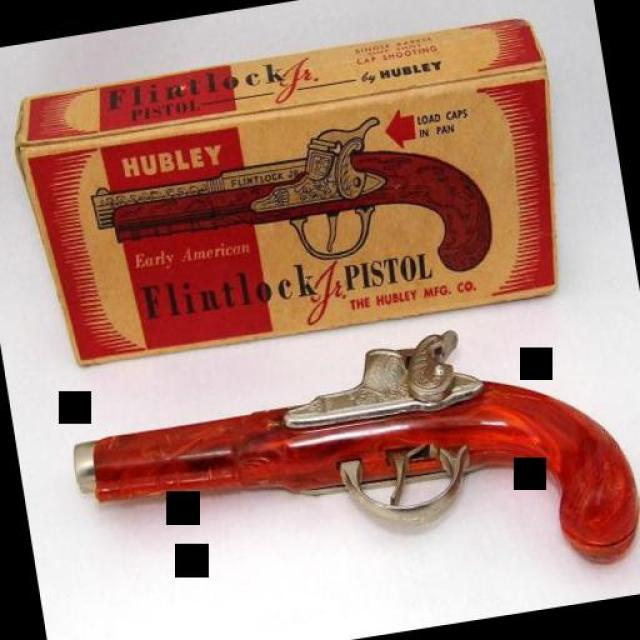gun: (50, 304, 640, 640)
